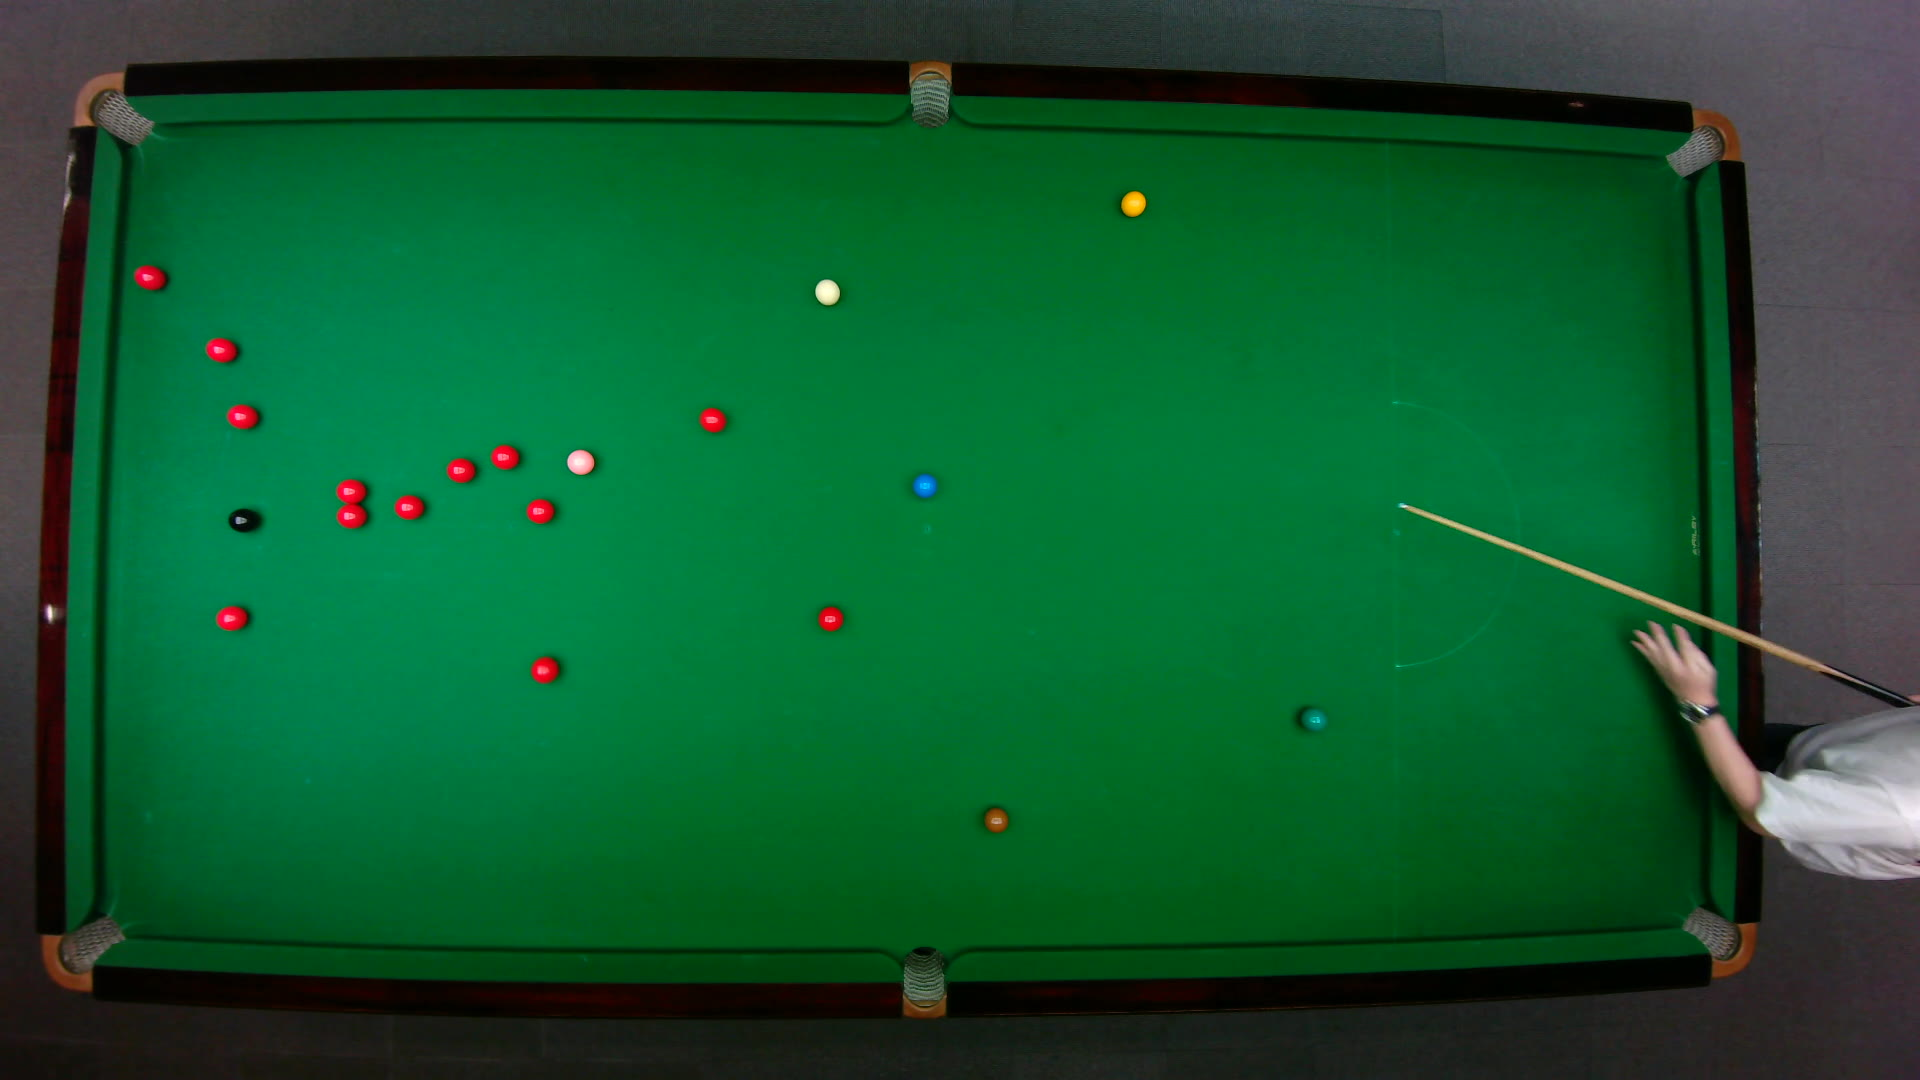bag: (38, 914, 128, 994), (73, 71, 156, 146), (1679, 905, 1758, 980), (1664, 108, 1743, 179), (903, 945, 947, 1021), (909, 61, 952, 129)
black: (228, 508, 260, 533)
blue: (913, 473, 939, 498)
brown: (982, 807, 1010, 833)
cue: (1396, 501, 1920, 709)
green: (1299, 705, 1329, 733)
pink: (566, 448, 596, 476)
red: (133, 264, 167, 291), (530, 655, 560, 684), (525, 497, 556, 525), (204, 338, 237, 364), (225, 404, 258, 430), (446, 458, 477, 484), (216, 607, 249, 632), (336, 479, 367, 505), (491, 444, 521, 471), (699, 407, 728, 434), (394, 495, 425, 520), (818, 607, 845, 633), (336, 505, 367, 529)
white: (814, 278, 843, 307)
yellow: (1120, 190, 1149, 218)
zone: (1391, 400, 1520, 669)
